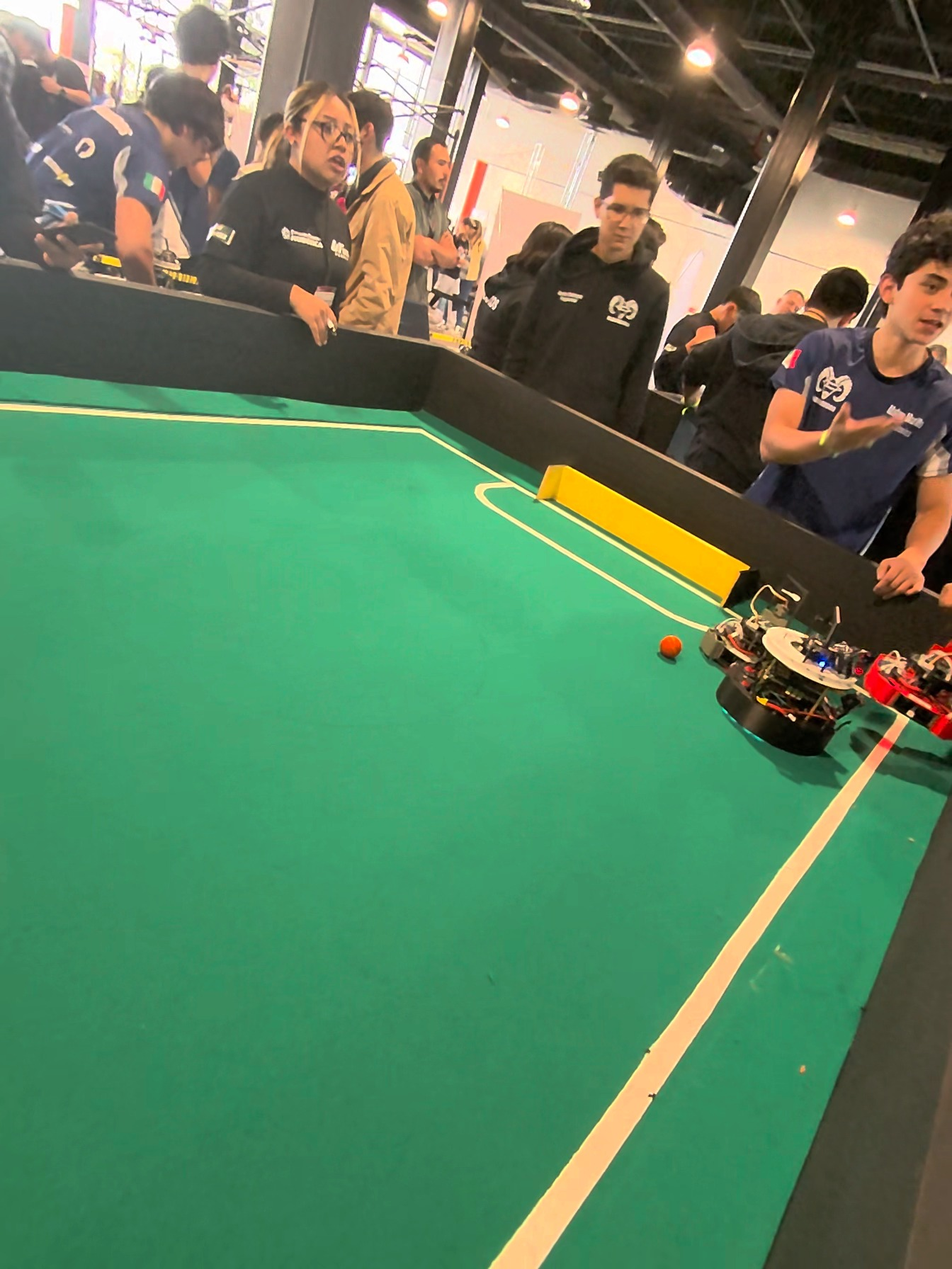Robot: (862, 631, 952, 775), (738, 626, 850, 741), (702, 583, 806, 665)
pelota: (657, 635, 682, 660)
